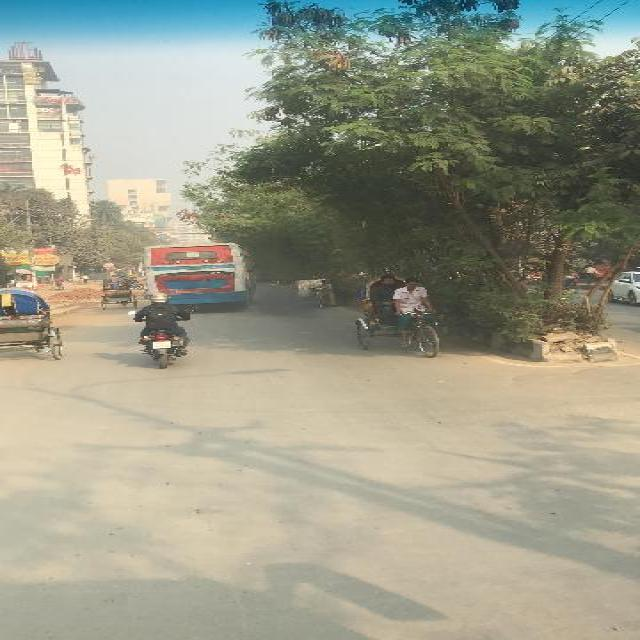bus: (144, 240, 254, 312)
car: (606, 270, 638, 306)
motorbike: (130, 294, 197, 371), (117, 274, 143, 288)
rickshaw: (356, 274, 451, 362), (0, 287, 62, 360), (292, 277, 337, 307), (99, 277, 136, 309)
